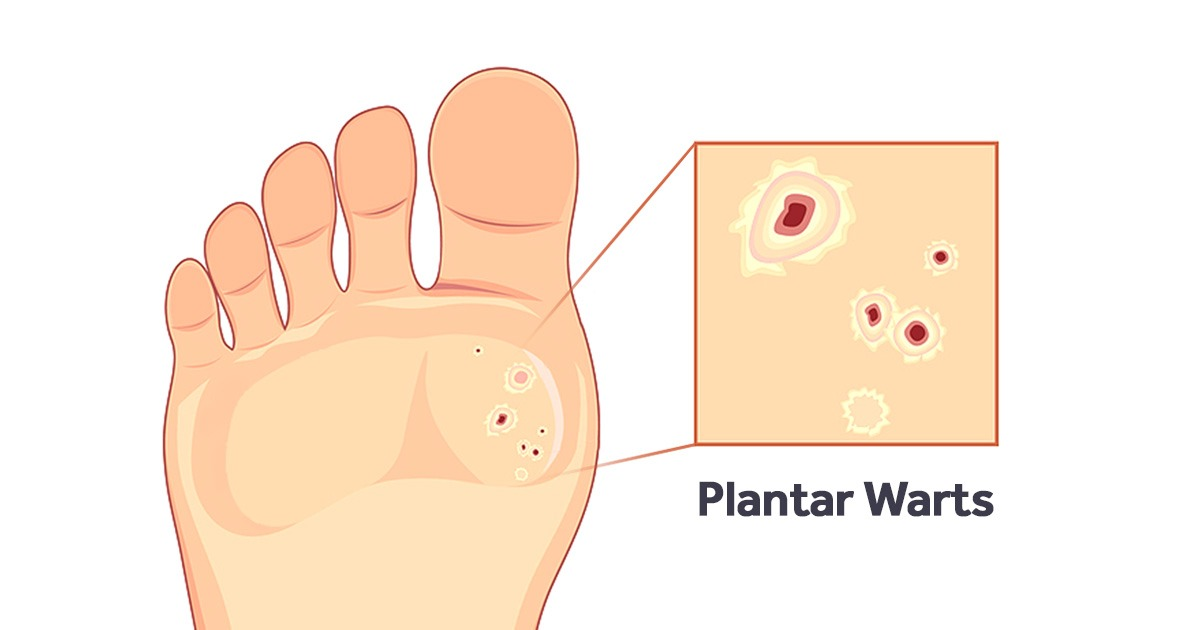Warts: (705, 141, 981, 451), (456, 330, 570, 489)
